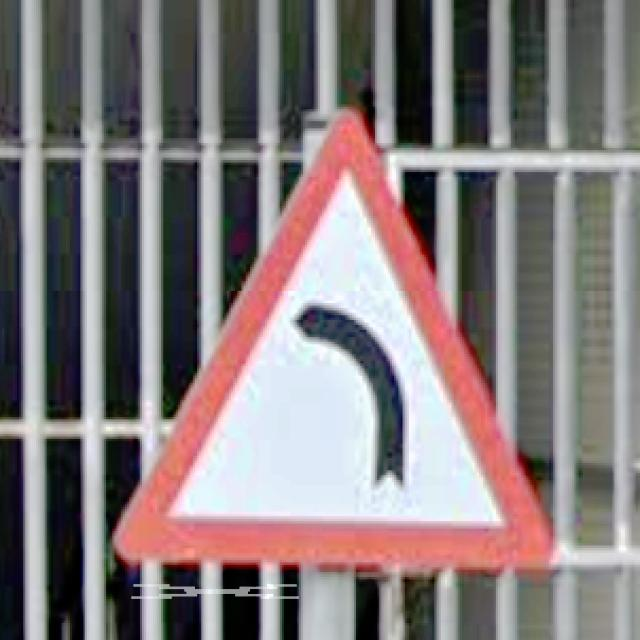leftbend: (114, 112, 553, 570)
